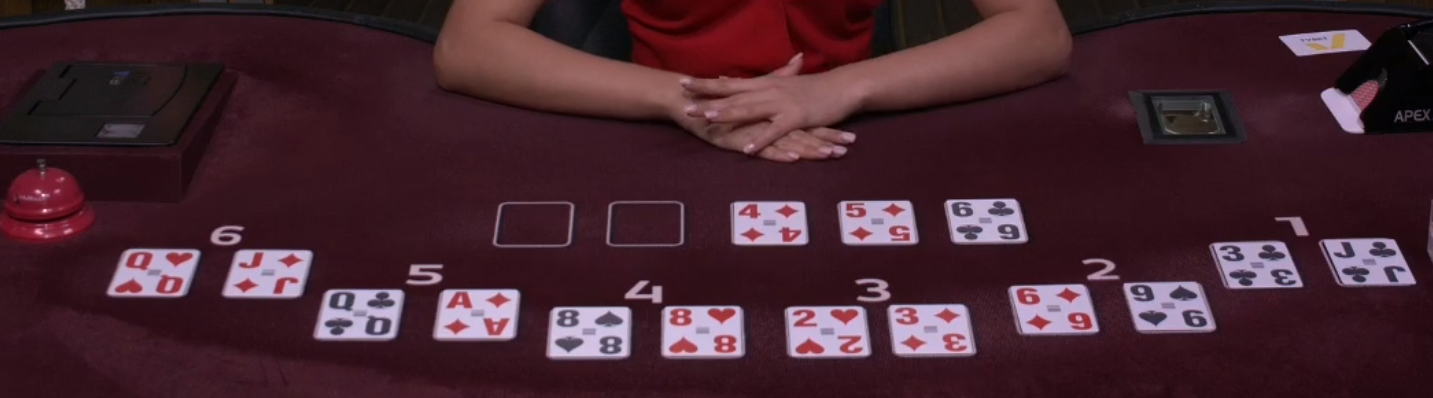2h: (780, 301, 874, 361)
3c: (1205, 238, 1306, 298)
3d: (883, 301, 981, 361)
4d: (727, 197, 813, 251)
5d: (831, 192, 925, 252)
6c: (941, 192, 1036, 254)
6d: (1002, 279, 1102, 341)
8h: (654, 300, 751, 366)
8s: (543, 299, 640, 367)
9s: (1116, 273, 1216, 337)
asd: (435, 281, 525, 350)
jc: (1318, 231, 1423, 292)
jd: (222, 242, 310, 306)
qc: (309, 281, 405, 347)
qh: (107, 242, 201, 306)
